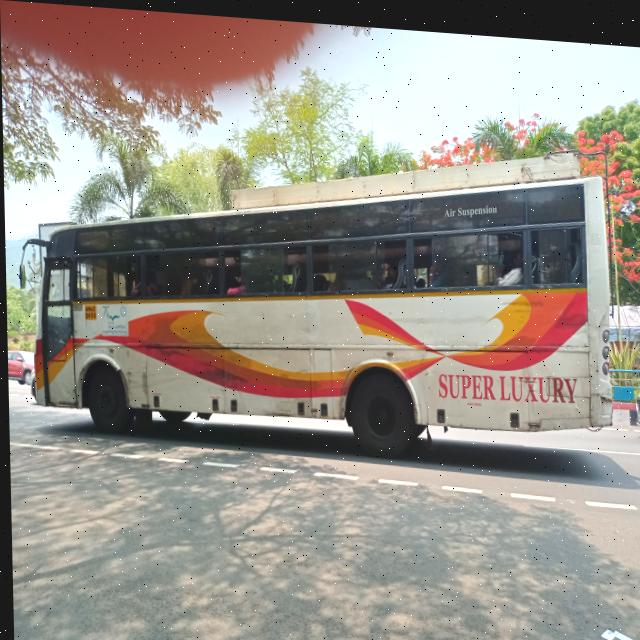bus: (9, 103, 618, 479)
